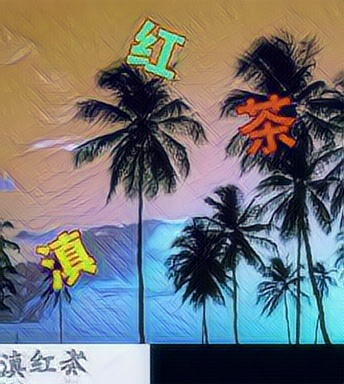B2E8: (234, 91, 297, 157)
B5E1: (37, 224, 100, 290)
BAEC: (123, 16, 186, 82)
